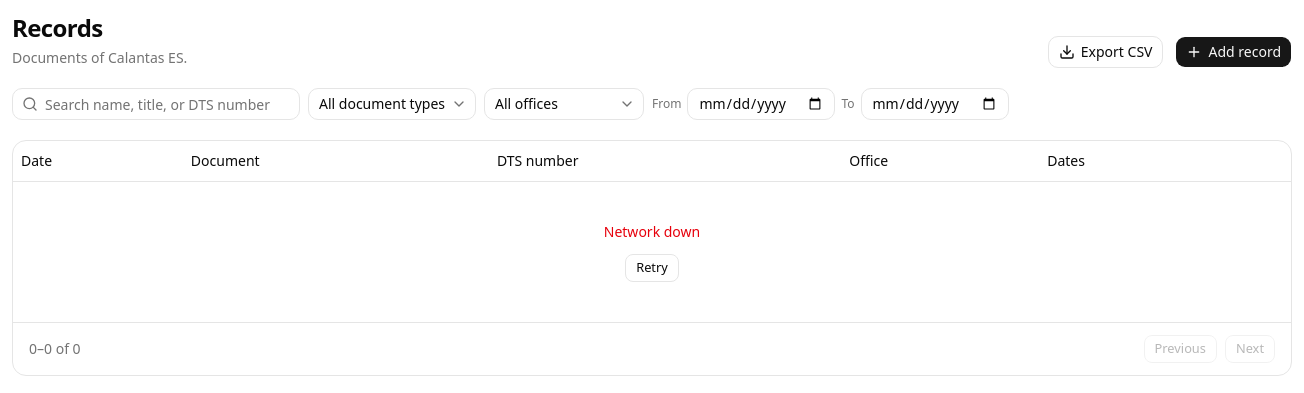
Test: RecordsPage › shows the list error with a Retry button
Check: the text "Network down" is shown, box [604,222,700,240]
Click the button "Retry": coordinates (652, 268) [625,254,679,282]
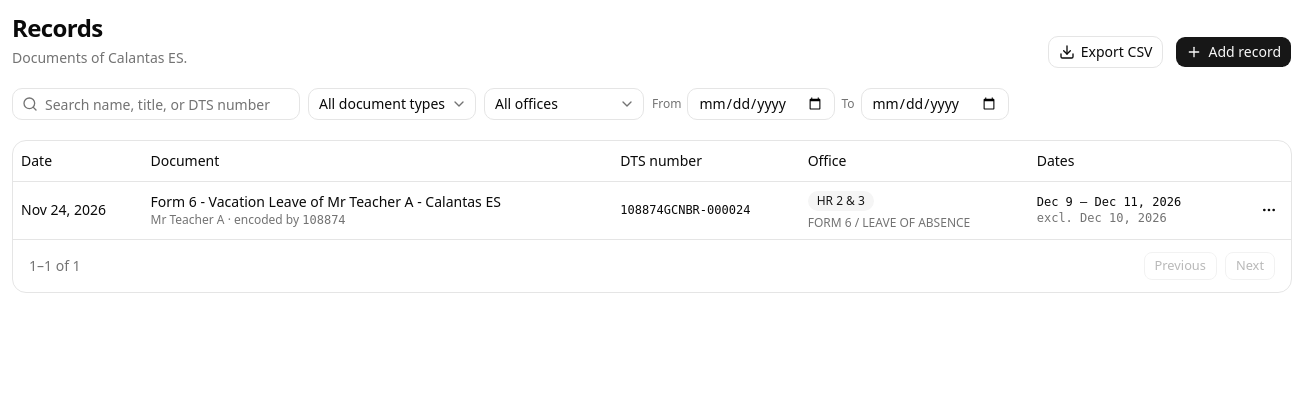
Check: the text "Form 6 - Vacation Leave of Mr Teacher A - Calantas ES" is shown, box [151,192,501,211]
